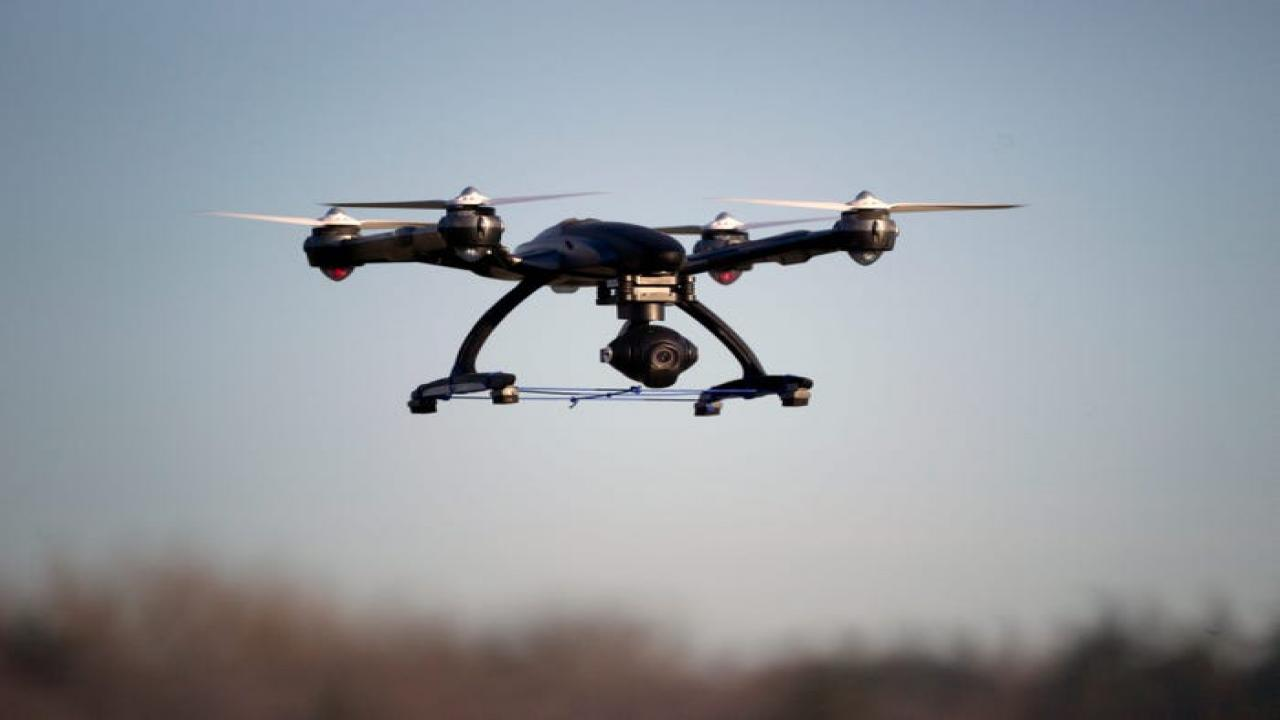Drone: (171, 161, 1064, 443)
